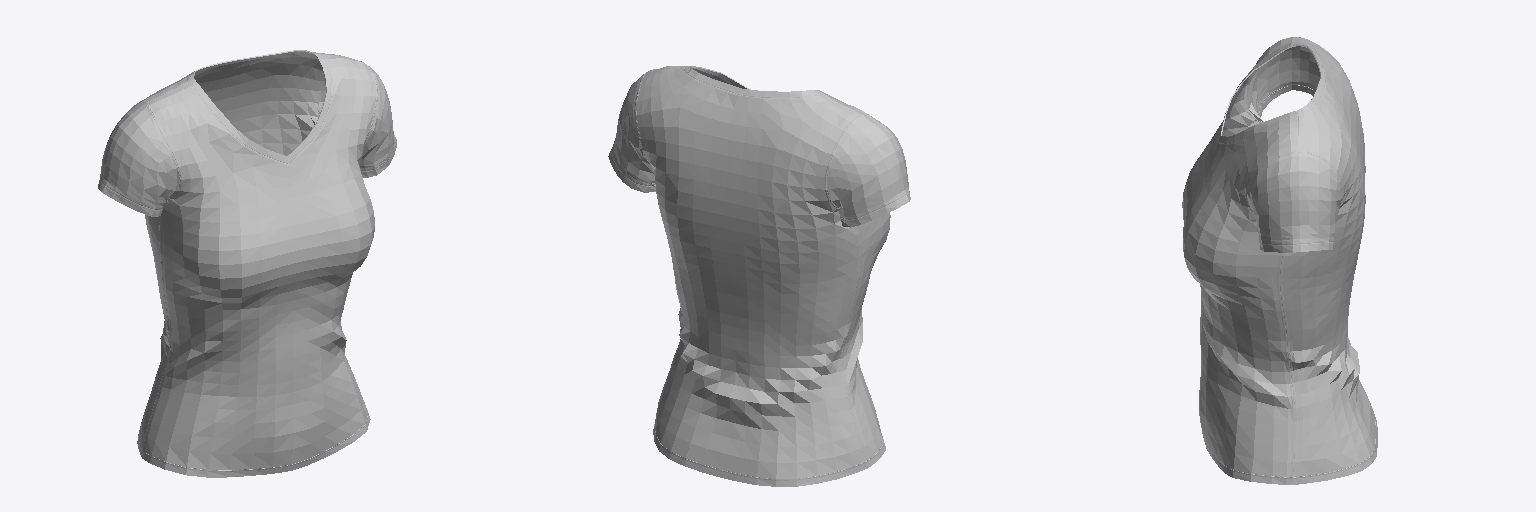
Rendered from fitted.obj.
3 renders of one model, left to right at view 1: azimuth 30°, elevation 25°; view 2: azimuth 150°, elevation 25°; view 3: azimuth 270°, elevation 25°, orthographic.
Parts seen in each view (by area): view 1: T_Shirt_female; view 2: T_Shirt_female; view 3: T_Shirt_female.
Part boxes in pixels (x1,y1,x2,y2): T_Shirt_female: (98, 50, 396, 477); T_Shirt_female: (608, 66, 910, 486); T_Shirt_female: (1182, 37, 1377, 484).
Bounding box in the file's own units: 43.45 × 52.52 × 24.92.